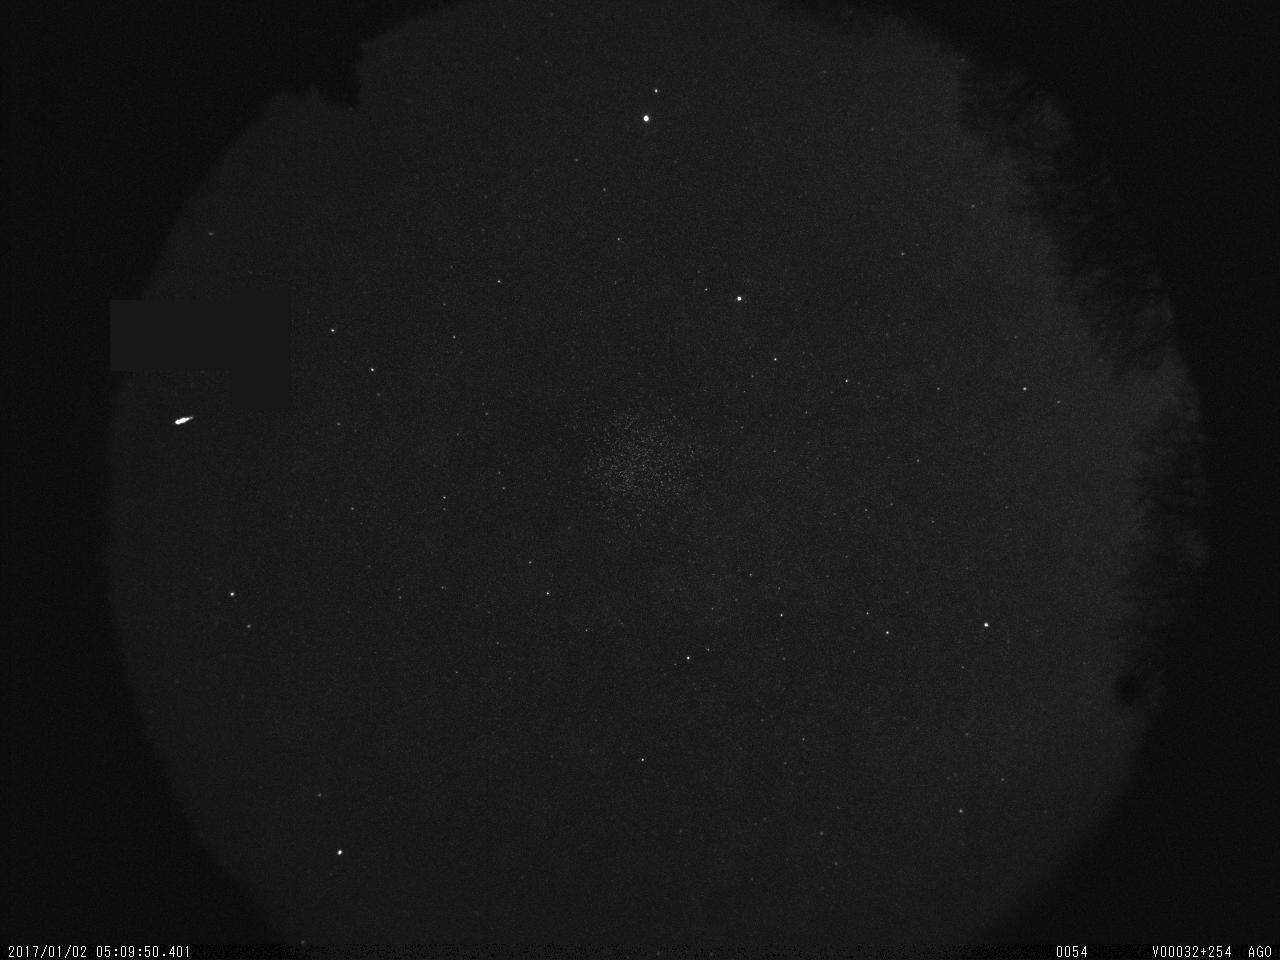meteor: (165, 407, 206, 434)
